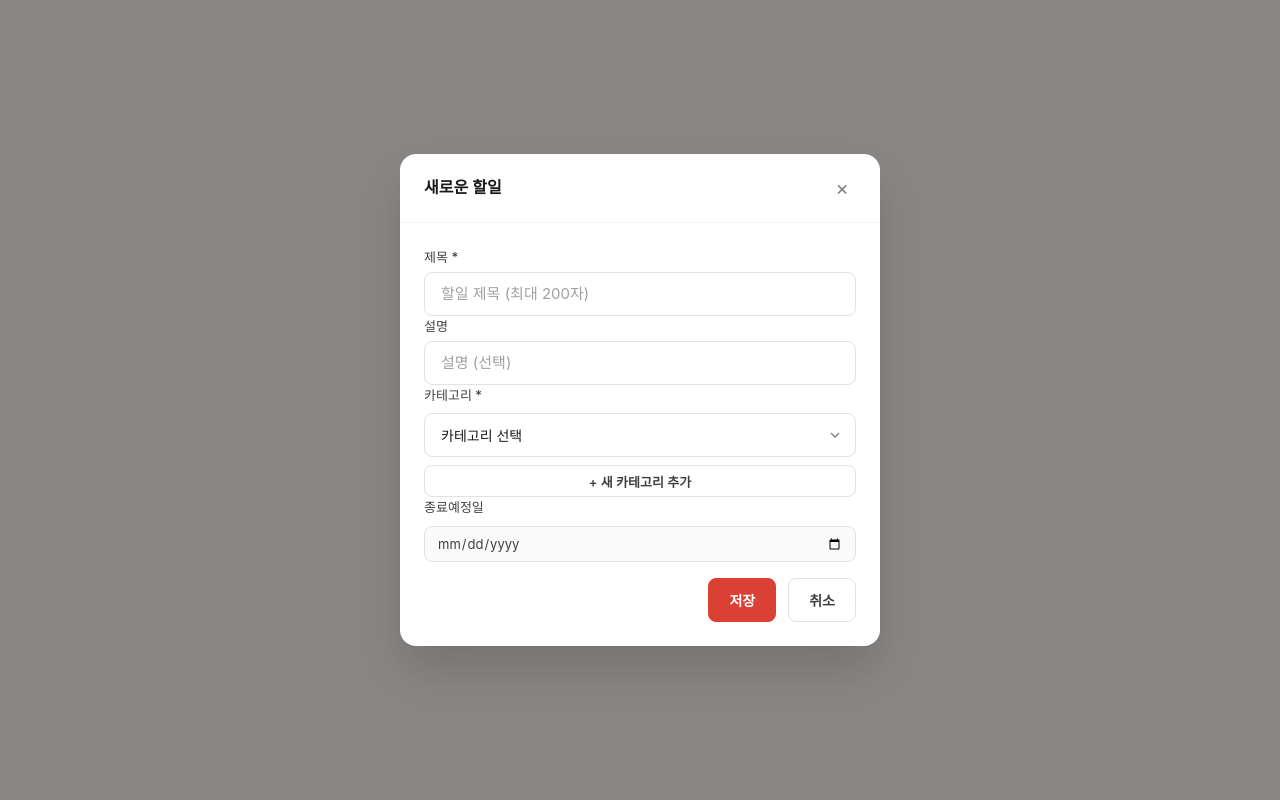
Test: TodoFormModal — 새 카테고리 추가 (UC-09) › 버튼 클릭 시 입력 폼이 표시된다
Click the button with test id "add-category-toggle".
click(640, 481)  # box [424,465,856,497]
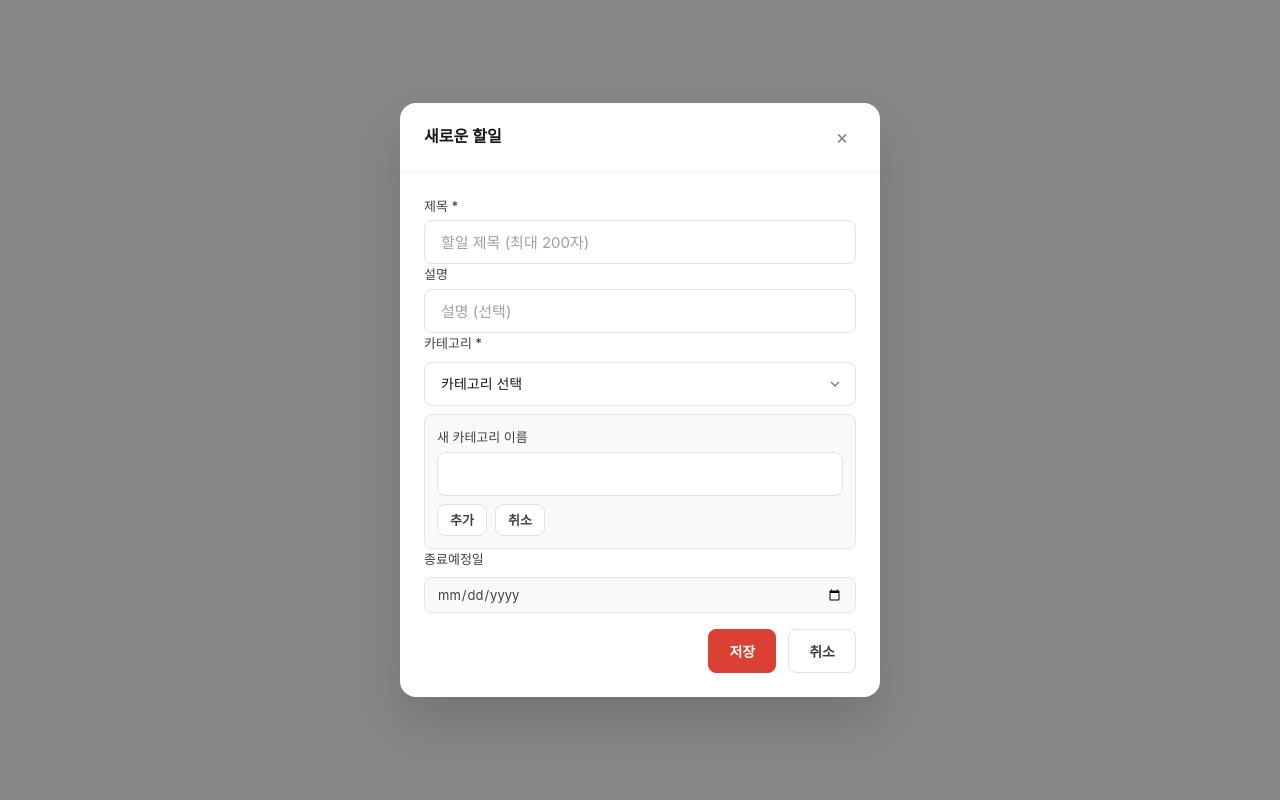
Expected: the element with test id "new-category-form" is shown, [424,414,856,549]
Expected: the field with test id "new-category-input" is shown, [437,452,843,496]
